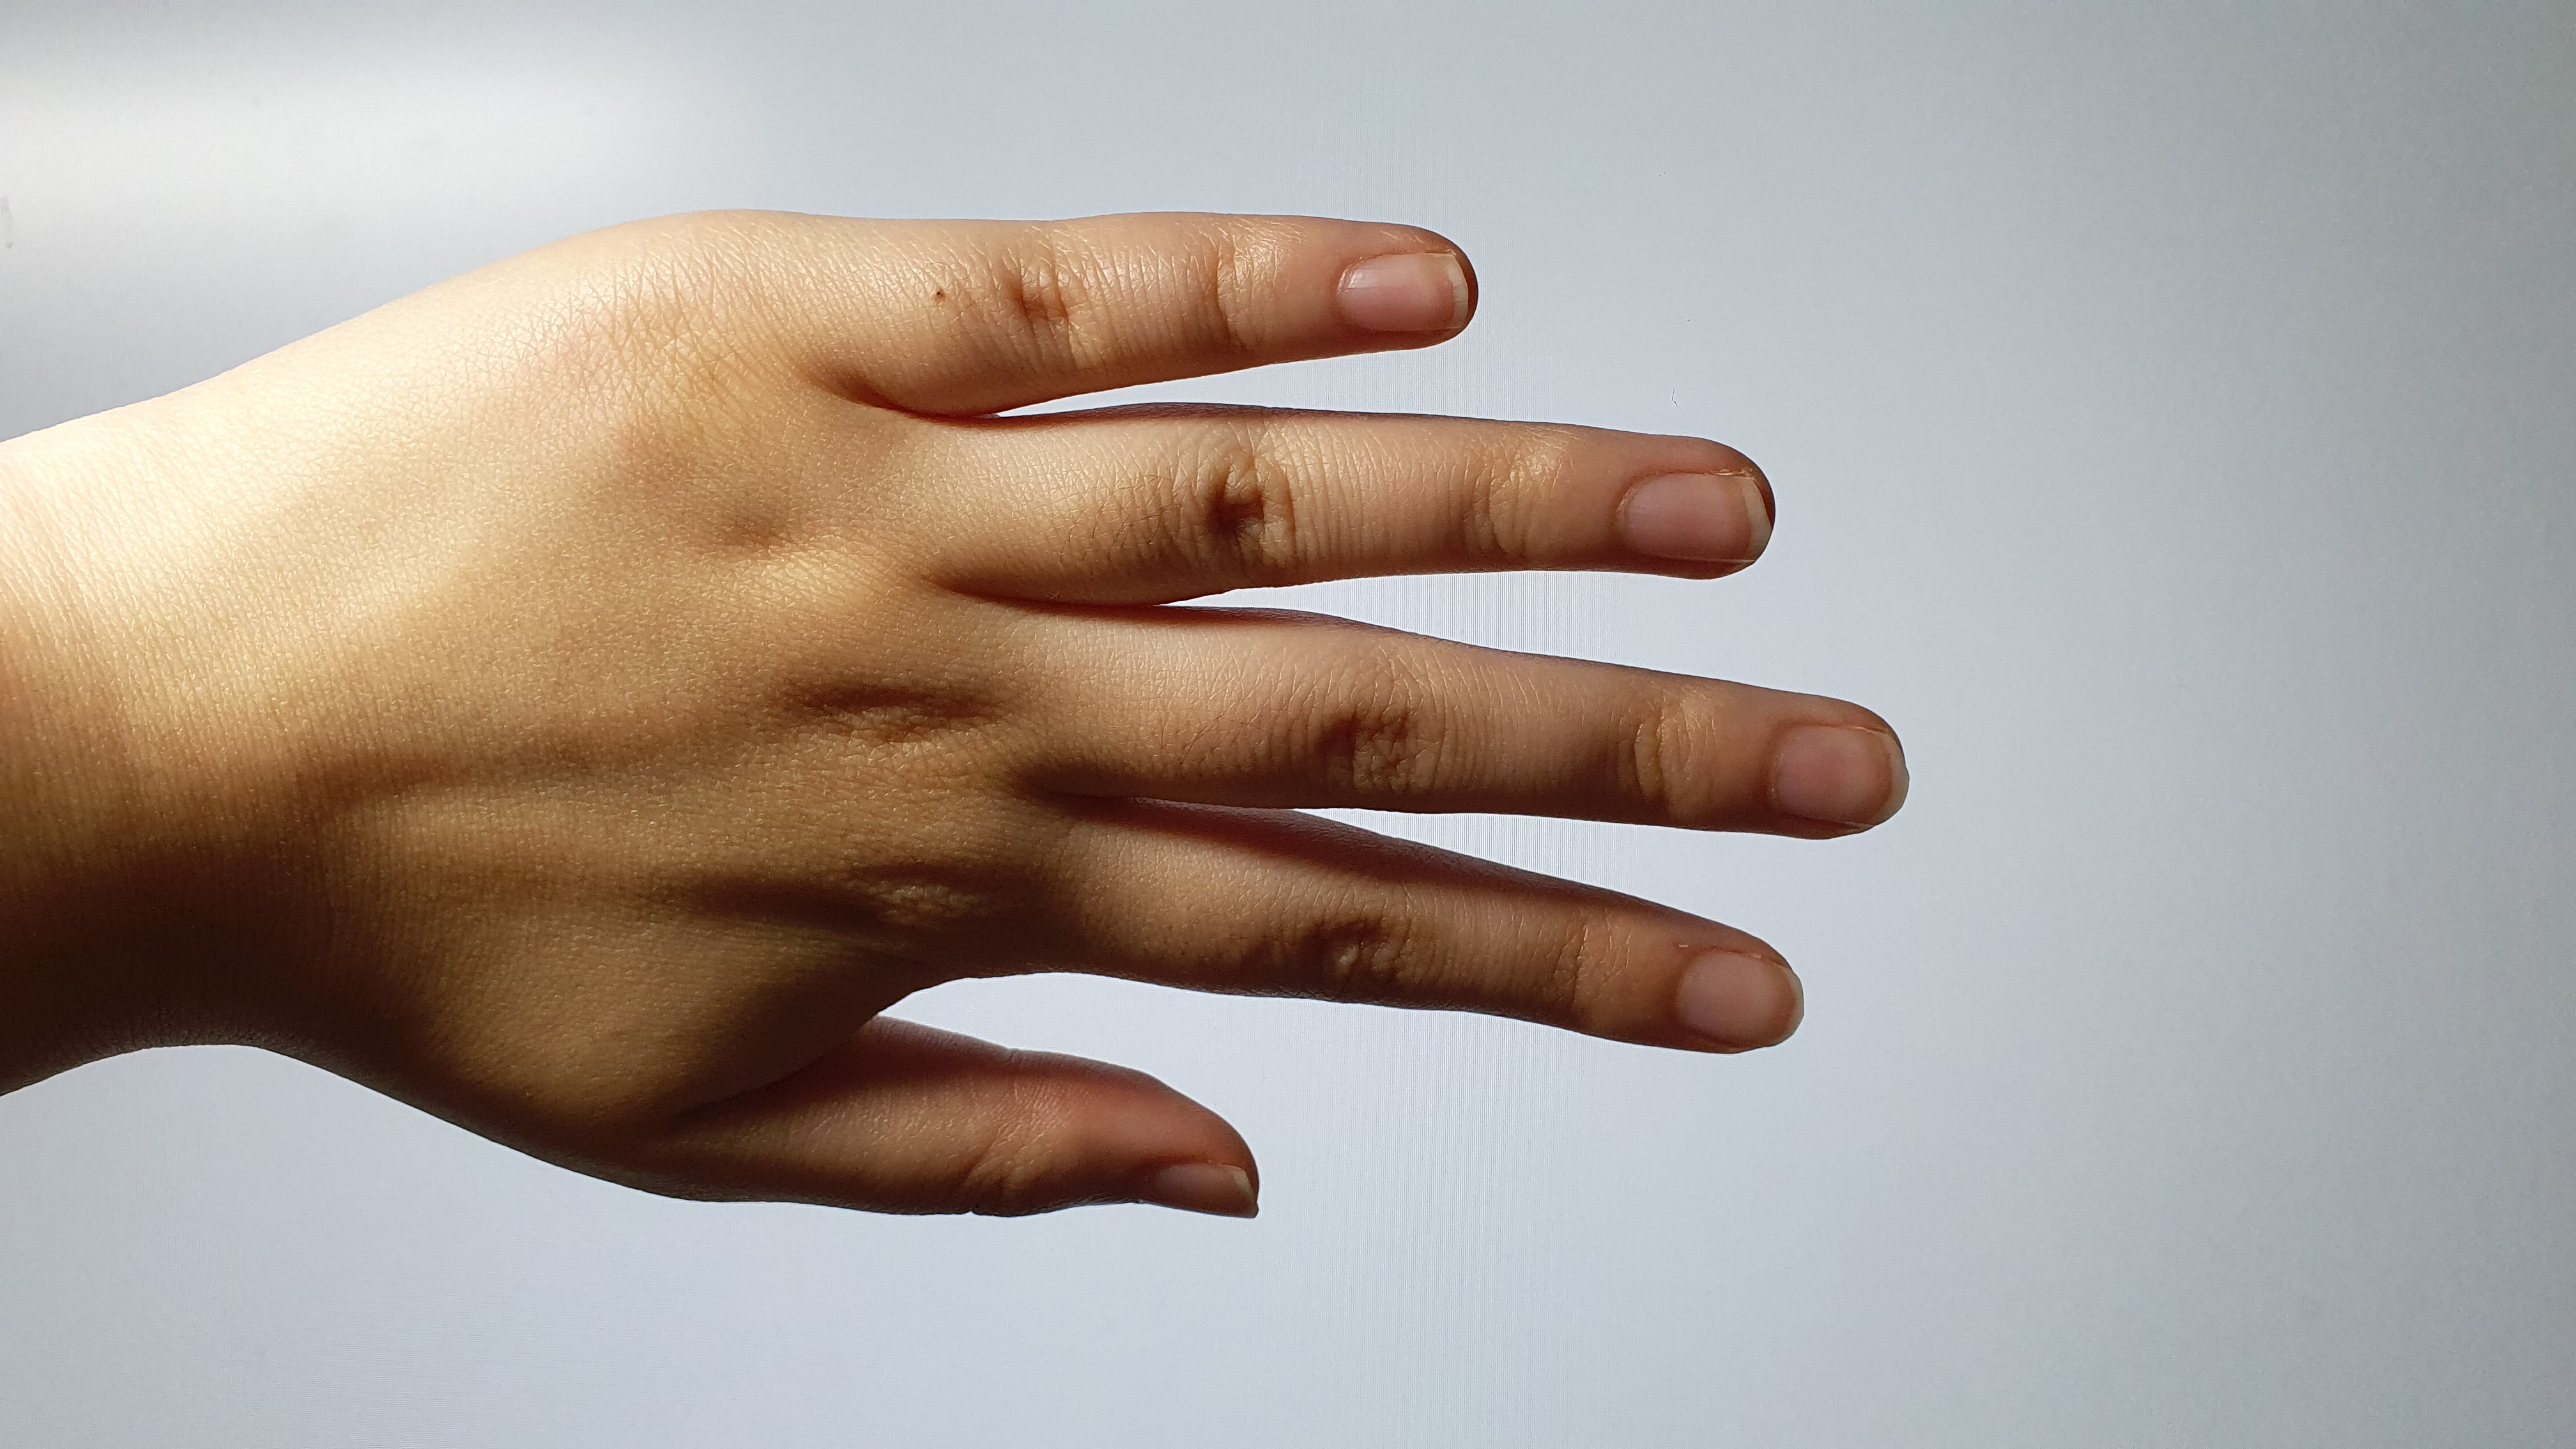backhand: (127, 212, 1030, 1016)
hand: (173, 202, 1913, 1224)
index finger: (1024, 842, 1822, 1058)
middle finger: (1132, 621, 1920, 817)
pinky: (775, 188, 1490, 418)
ring finger: (890, 393, 1798, 632)
thumb: (633, 1003, 1269, 1237)
